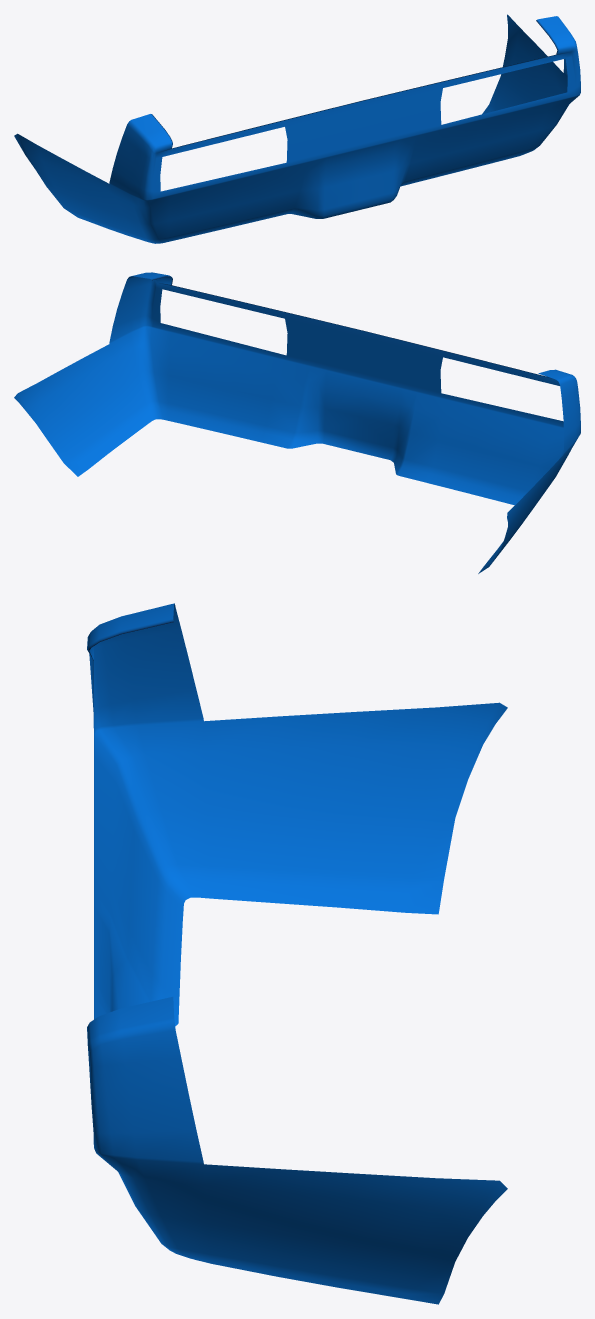
The model's file is Camaro_BB01_Duco.fbx.
3 renders of one model, top to bottom at view 1: azimuth 30°, elevation 25°; view 2: azimuth 150°, elevation 25°; view 3: azimuth 270°, elevation 25°, orthographic. The views are drawn at different scales.
Visible parts, largest first — view 1: Camaro_BB01_Duco; view 2: Camaro_BB01_Duco; view 3: Camaro_BB01_Duco.
Boxes of the visible parts, <box> form: Camaro_BB01_Duco: <box>14,14,580,243</box>; Camaro_BB01_Duco: <box>14,272,580,573</box>; Camaro_BB01_Duco: <box>87,603,507,1304</box>.
Size of the model in its own units: 1.84 by 0.6804 by 0.5384.
